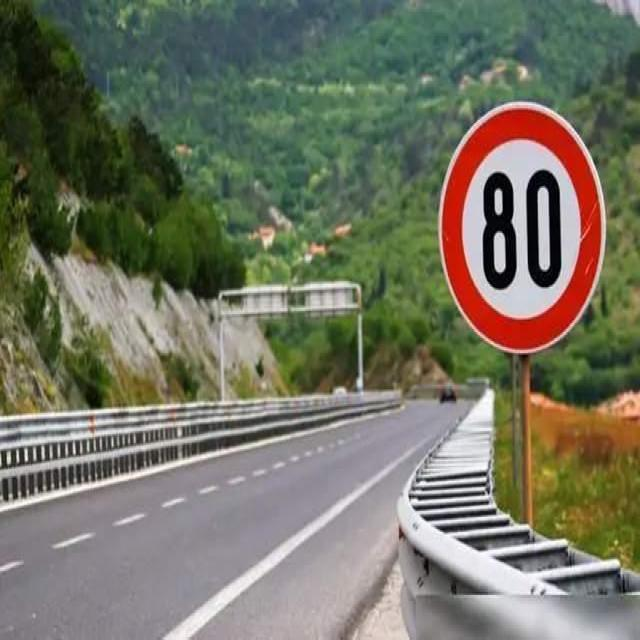speed limit 80: (438, 103, 607, 357)
